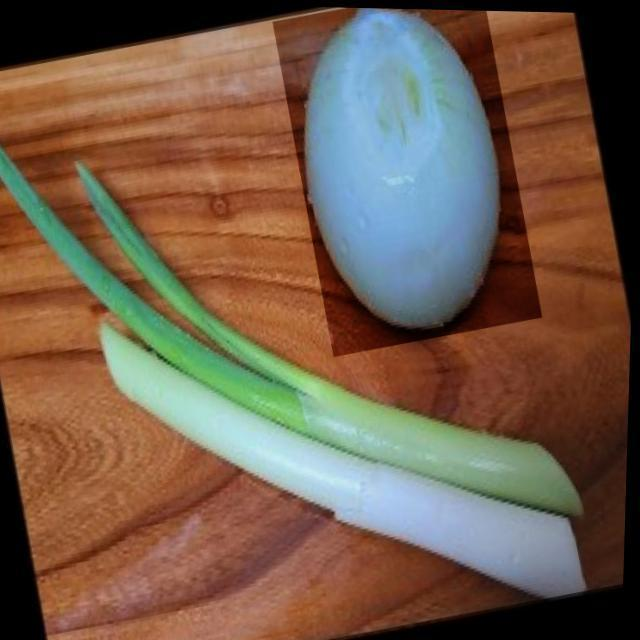Onion: (265, 4, 551, 358)
